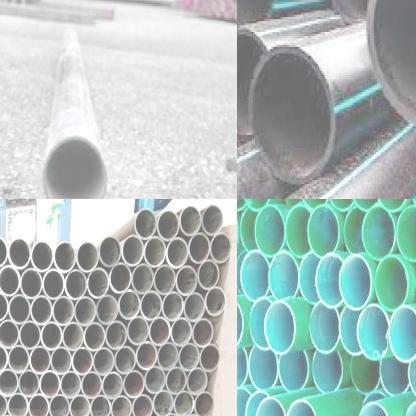pipe: (245, 43, 337, 186), (360, 0, 416, 140), (42, 133, 106, 199), (237, 24, 269, 137), (356, 304, 390, 361), (362, 205, 396, 261), (375, 254, 409, 310), (339, 254, 371, 310), (307, 204, 340, 258), (254, 204, 286, 258), (264, 300, 296, 354), (316, 252, 344, 308), (309, 302, 339, 354), (240, 250, 270, 301), (389, 307, 416, 362), (268, 251, 298, 299), (286, 204, 312, 258), (324, 0, 387, 22), (279, 350, 310, 393), (249, 346, 278, 390), (312, 351, 342, 393), (350, 354, 381, 394), (250, 296, 272, 351), (380, 358, 411, 396), (344, 206, 368, 255), (397, 204, 416, 262), (299, 252, 320, 304), (7, 236, 32, 269), (98, 234, 122, 268), (156, 207, 180, 241), (200, 202, 224, 236), (178, 203, 202, 237), (86, 266, 110, 298), (130, 262, 154, 294), (166, 235, 189, 268), (126, 315, 150, 346), (76, 240, 99, 272), (95, 293, 118, 325), (53, 240, 76, 272), (153, 263, 176, 295), (30, 239, 53, 271), (143, 236, 166, 268), (64, 268, 87, 300), (30, 294, 53, 325), (8, 293, 31, 324), (42, 268, 65, 299), (121, 235, 144, 266), (209, 232, 232, 263), (20, 267, 42, 299), (197, 258, 219, 290), (134, 208, 156, 240), (110, 262, 132, 294), (118, 289, 140, 321), (188, 232, 210, 264), (175, 264, 197, 296), (162, 290, 184, 322), (113, 344, 136, 374), (148, 316, 171, 346), (92, 346, 115, 376), (140, 289, 162, 320), (52, 295, 74, 326), (204, 286, 226, 317), (183, 291, 205, 322), (74, 295, 96, 326), (84, 321, 106, 351), (18, 320, 40, 350), (8, 344, 30, 374), (105, 320, 127, 350), (18, 368, 40, 398), (144, 366, 166, 396), (170, 316, 192, 346), (0, 264, 20, 296), (192, 316, 212, 348), (40, 321, 62, 350), (29, 345, 51, 374), (123, 369, 145, 398), (136, 341, 158, 370), (178, 342, 200, 371), (156, 341, 178, 370), (62, 321, 83, 351), (102, 370, 123, 400), (199, 342, 220, 372), (186, 366, 207, 396), (245, 391, 270, 416), (80, 370, 102, 398), (164, 366, 186, 394), (40, 370, 61, 399), (72, 346, 93, 375), (51, 346, 72, 375), (60, 370, 81, 399), (255, 397, 286, 416), (0, 318, 19, 348), (152, 389, 173, 416), (0, 367, 19, 396), (193, 390, 214, 416), (286, 399, 318, 416), (131, 392, 153, 416), (27, 392, 49, 416), (173, 390, 193, 416), (7, 392, 28, 416), (69, 393, 90, 416), (48, 393, 69, 416), (357, 402, 391, 416), (110, 394, 131, 416), (89, 394, 110, 416), (237, 347, 248, 389), (374, 199, 409, 212), (237, 387, 251, 416), (241, 199, 273, 211), (237, 298, 244, 351), (349, 199, 378, 211), (408, 357, 416, 399), (326, 199, 354, 211), (0, 290, 9, 321), (0, 235, 8, 267), (0, 343, 8, 373), (0, 391, 7, 416)
